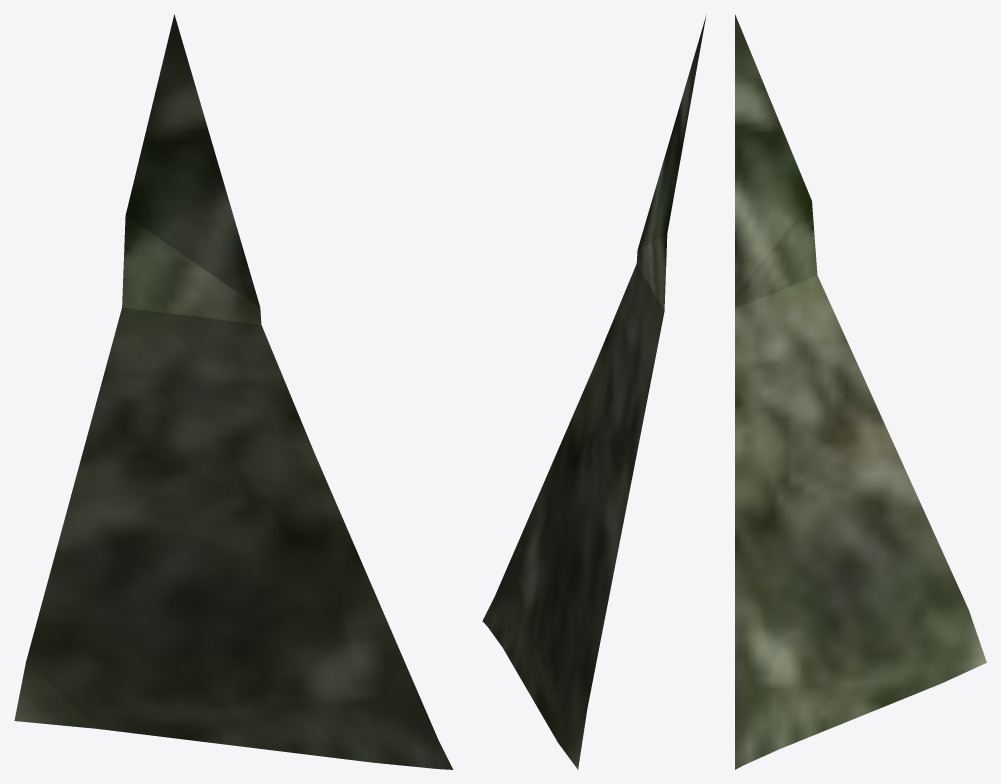
3 renders of one model, left to right at view 1: azimuth 30°, elevation 25°; view 2: azimuth 150°, elevation 25°; view 3: azimuth 270°, elevation 25°, orthographic. The views are drawn at different scales.
Size of the model in its own units: 0.3182 by 0.8975 by 0.3158.
Materials: 1 (1 with a texture image).
